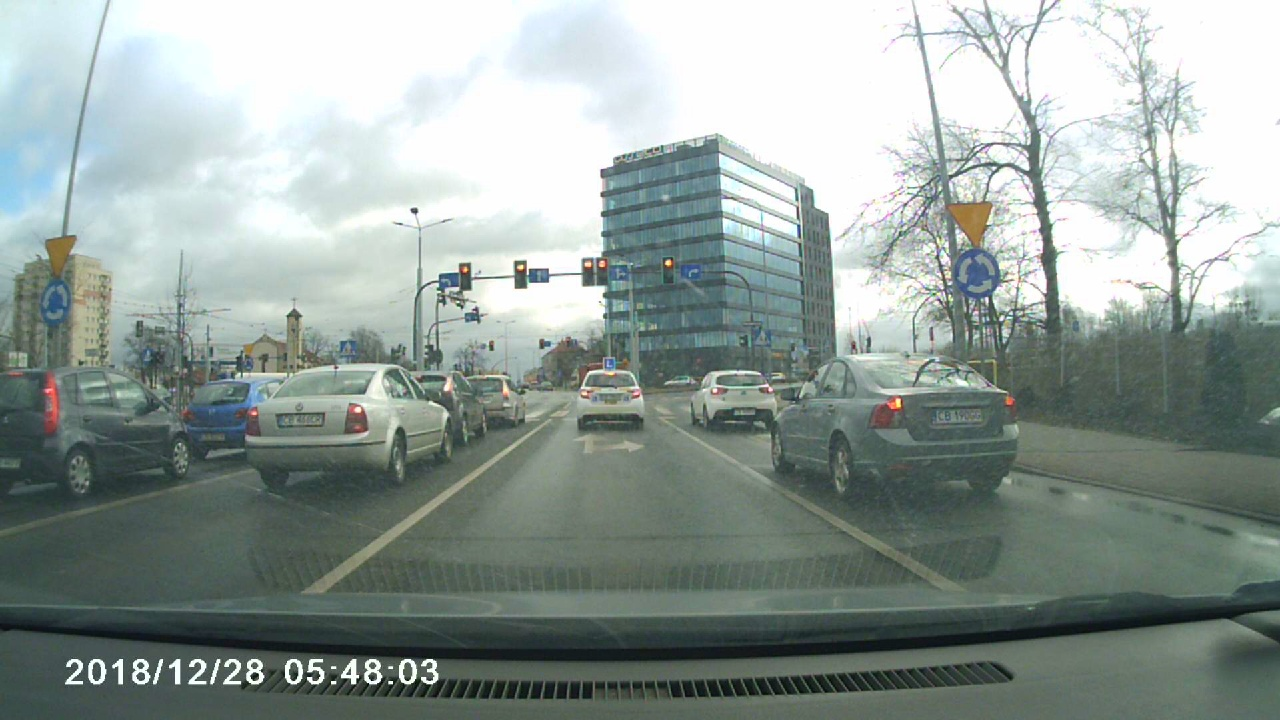A7: (944, 198, 998, 248), (42, 233, 76, 278)
C12: (949, 248, 1005, 298), (37, 280, 74, 327)
